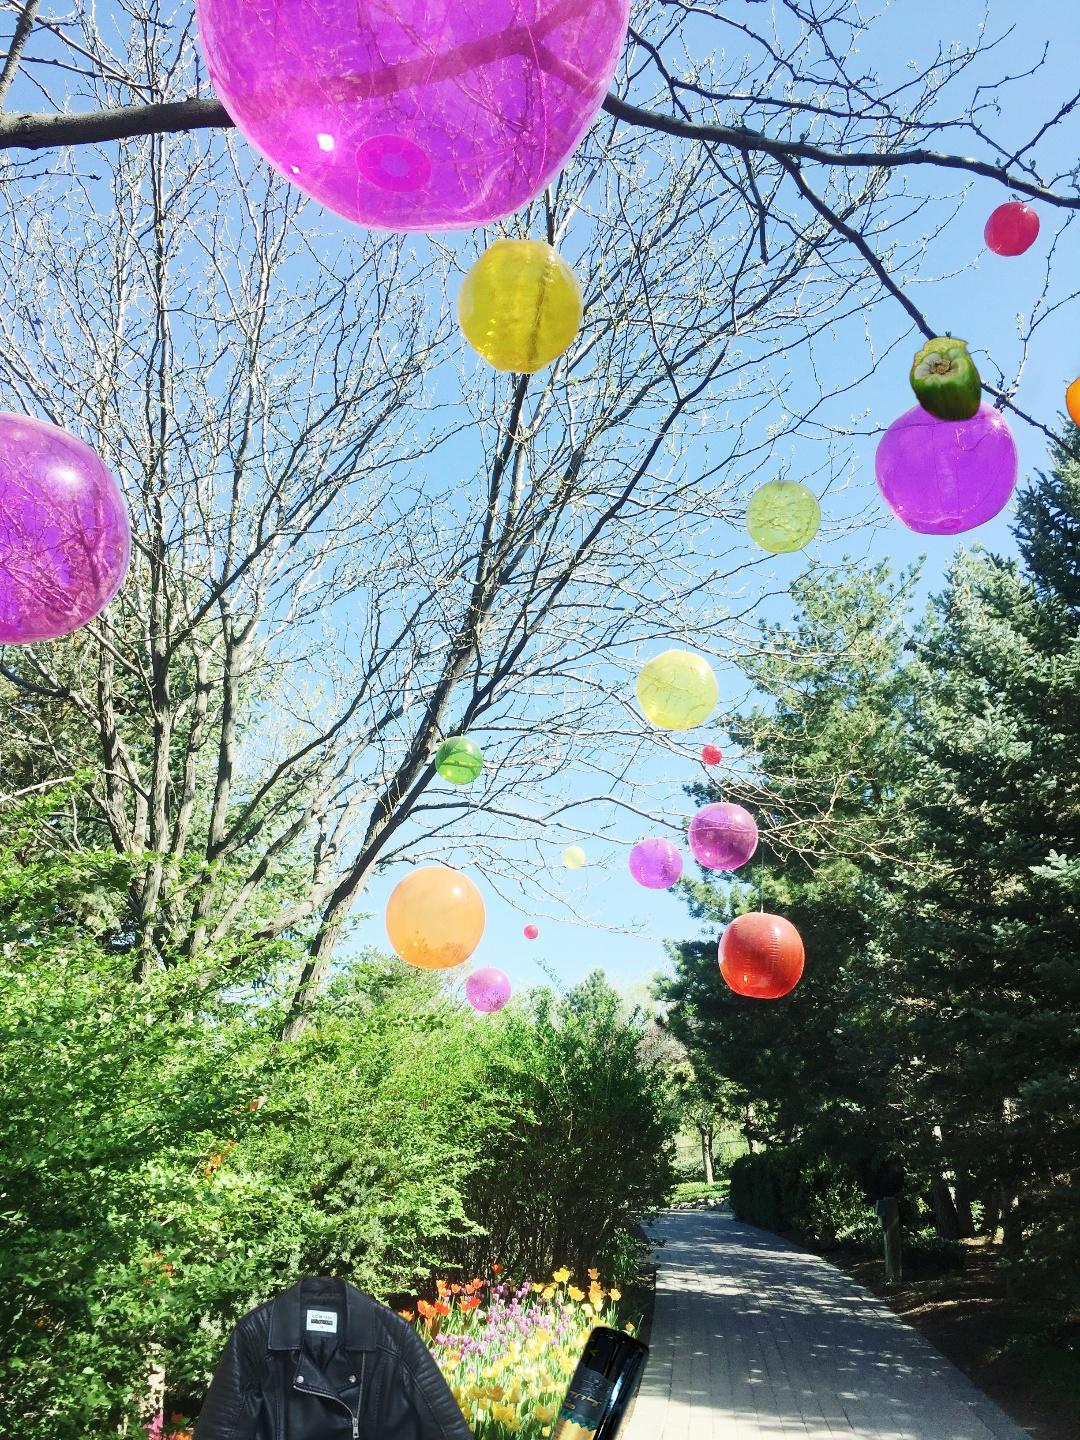biological: (857, 336, 1080, 519)
clothes: (172, 1271, 520, 1440)
glass: (511, 1320, 653, 1440)
